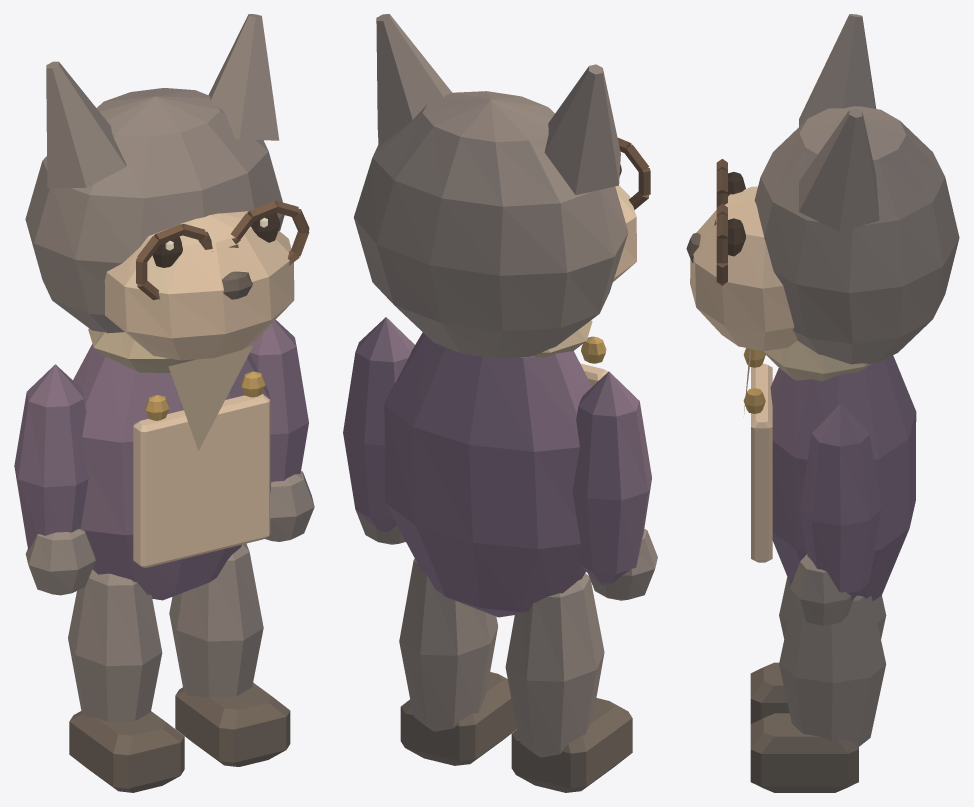
Rendered from npc_mara.glb.
The picture shows the model from 3 angles, left to right: view 1: azimuth 30°, elevation 25°; view 2: azimuth 150°, elevation 25°; view 3: azimuth 270°, elevation 25°; orthographic projection. The views are drawn at different scales.
Visible parts, largest first — view 1: npc_mara, npc_mara_leg_l, npc_mara_leg_r, npc_mara_arm_l, npc_mara_arm_r; view 2: npc_mara, npc_mara_leg_l, npc_mara_leg_r, npc_mara_arm_l, npc_mara_arm_r; view 3: npc_mara, npc_mara_leg_r, npc_mara_arm_r, npc_mara_leg_l.
Part boxes in pixels (x1,y1,x2,y2): npc_mara: (25, 14, 309, 600); npc_mara_leg_l: (68, 569, 184, 792); npc_mara_leg_r: (169, 543, 290, 766); npc_mara_arm_l: (14, 364, 95, 595); npc_mara_arm_r: (246, 319, 314, 541); npc_mara: (353, 14, 650, 617); npc_mara_leg_l: (505, 573, 632, 792); npc_mara_leg_r: (399, 558, 516, 765); npc_mara_arm_l: (572, 371, 657, 600); npc_mara_arm_r: (343, 317, 414, 544); npc_mara: (686, 14, 959, 601); npc_mara_leg_r: (750, 595, 886, 792); npc_mara_arm_r: (790, 403, 881, 625); npc_mara_leg_l: (750, 577, 886, 723).
Bounding box in the file's own units: 0.646 × 1.51 × 0.5399.
